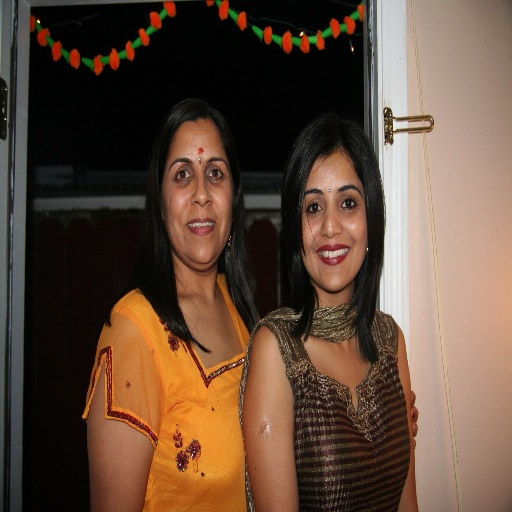hand: (408, 388, 421, 447)
